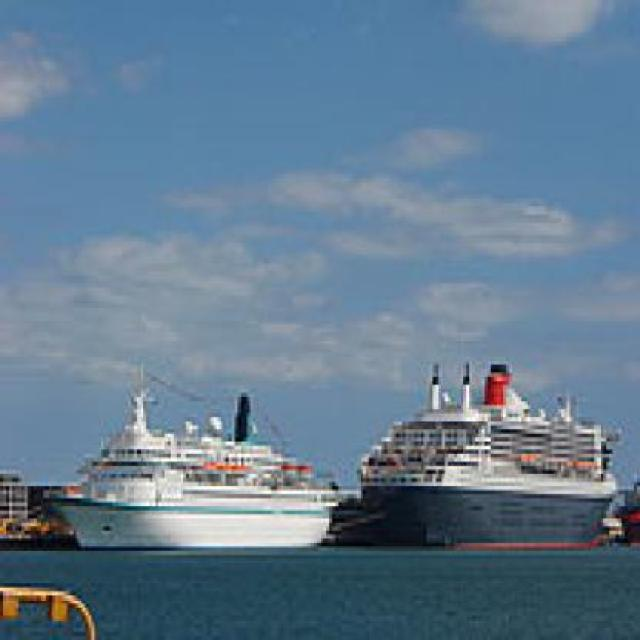cruise: (32, 353, 346, 564), (346, 346, 632, 564)
